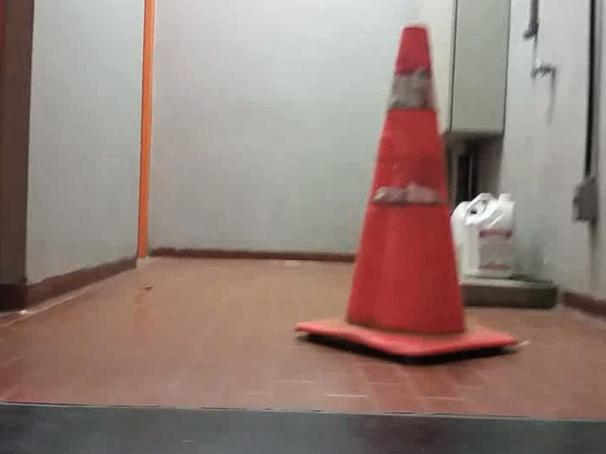0 cone: (292, 25, 519, 357)
